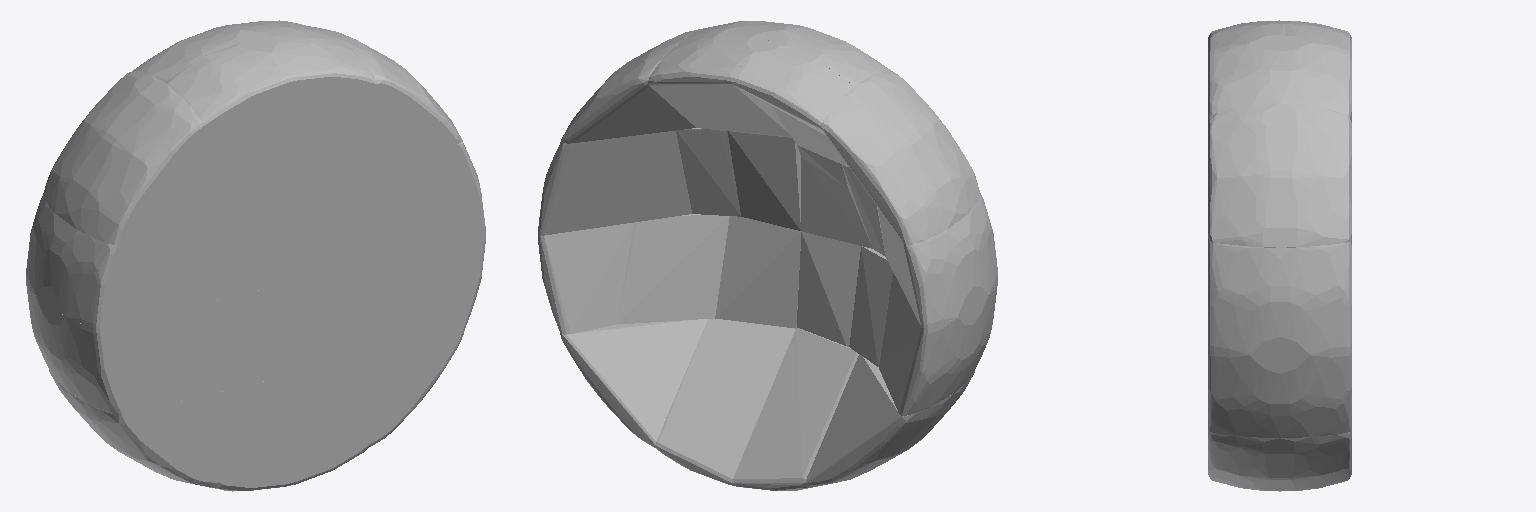
robot.urdf — root:
<robot name="root">
  <link name="link_coacd_convex_piece_0">
    <inertial>
      <origin xyz="0 0 0" rpy="0 0 0"/>
      <inertia ixx="1.79E-02" ixy="6.59E-04" ixz="-1.55E-02" iyy="3.27E-02" iyz="7.07E-04" izz="1.62E-02"/>
    </inertial>
    <visual>
      <origin xyz="0 0 0" rpy="0 0 0"/>
      <geometry>
        <mesh filename="coacd_convex_piece_0.obj" scale="1.0000E+00 1.0000E+00 1.0000E+00"/>
      </geometry>
      <material name="">
        <color rgba="7.50E-01 7.50E-01 7.50E-01 1"/>
      </material>
    </visual>
    <collision>
      <origin xyz="0 0 0" rpy="0 0 0"/>
      <geometry>
        <mesh filename="coacd_convex_piece_0.obj" scale="1.0000E+00 1.0000E+00 1.0000E+00"/>
      </geometry>
    </collision>
  </link>
  <link name="link_coacd_convex_piece_1">
    <inertial>
      <origin xyz="0 0 0" rpy="0 0 0"/>
      <inertia ixx="3.28E-02" ixy="7.61E-04" ixz="-8.20E-03" iyy="3.47E-02" iyz="2.42E-03" izz="4.03E-03"/>
    </inertial>
    <visual>
      <origin xyz="0 0 0" rpy="0 0 0"/>
      <geometry>
        <mesh filename="coacd_convex_piece_1.obj" scale="1.0000E+00 1.0000E+00 1.0000E+00"/>
      </geometry>
      <material name="">
        <color rgba="7.50E-01 7.50E-01 7.50E-01 1"/>
      </material>
    </visual>
    <collision>
      <origin xyz="0 0 0" rpy="0 0 0"/>
      <geometry>
        <mesh filename="coacd_convex_piece_1.obj" scale="1.0000E+00 1.0000E+00 1.0000E+00"/>
      </geometry>
    </collision>
  </link>
  <joint name="link_coacd_convex_piece_1_joint" type="fixed">
    <origin xyz="0 0 0" rpy="0 0 0"/>
    <parent link="link_coacd_convex_piece_0"/>
    <child link="link_coacd_convex_piece_1"/>
  </joint>
  <link name="link_coacd_convex_piece_2">
    <inertial>
      <origin xyz="0 0 0" rpy="0 0 0"/>
      <inertia ixx="4.96E-03" ixy="2.45E-03" ixz="-9.68E-03" iyy="3.82E-02" iyz="8.18E-04" izz="3.54E-02"/>
    </inertial>
    <visual>
      <origin xyz="0 0 0" rpy="0 0 0"/>
      <geometry>
        <mesh filename="coacd_convex_piece_2.obj" scale="1.0000E+00 1.0000E+00 1.0000E+00"/>
      </geometry>
      <material name="">
        <color rgba="7.50E-01 7.50E-01 7.50E-01 1"/>
      </material>
    </visual>
    <collision>
      <origin xyz="0 0 0" rpy="0 0 0"/>
      <geometry>
        <mesh filename="coacd_convex_piece_2.obj" scale="1.0000E+00 1.0000E+00 1.0000E+00"/>
      </geometry>
    </collision>
  </link>
  <joint name="link_coacd_convex_piece_2_joint" type="fixed">
    <origin xyz="0 0 0" rpy="0 0 0"/>
    <parent link="link_coacd_convex_piece_1"/>
    <child link="link_coacd_convex_piece_2"/>
  </joint>
  <link name="link_coacd_convex_piece_3">
    <inertial>
      <origin xyz="0 0 0" rpy="0 0 0"/>
      <inertia ixx="1.87E-02" ixy="-9.10E-04" ixz="1.80E-02" iyy="3.85E-02" iyz="8.29E-04" izz="2.16E-02"/>
    </inertial>
    <visual>
      <origin xyz="0 0 0" rpy="0 0 0"/>
      <geometry>
        <mesh filename="coacd_convex_piece_3.obj" scale="1.0000E+00 1.0000E+00 1.0000E+00"/>
      </geometry>
      <material name="">
        <color rgba="7.50E-01 7.50E-01 7.50E-01 1"/>
      </material>
    </visual>
    <collision>
      <origin xyz="0 0 0" rpy="0 0 0"/>
      <geometry>
        <mesh filename="coacd_convex_piece_3.obj" scale="1.0000E+00 1.0000E+00 1.0000E+00"/>
      </geometry>
    </collision>
  </link>
  <joint name="link_coacd_convex_piece_3_joint" type="fixed">
    <origin xyz="0 0 0" rpy="0 0 0"/>
    <parent link="link_coacd_convex_piece_2"/>
    <child link="link_coacd_convex_piece_3"/>
  </joint>
  <link name="link_coacd_convex_piece_4">
    <inertial>
      <origin xyz="0 0 0" rpy="0 0 0"/>
      <inertia ixx="3.27E-03" ixy="-2.30E-03" ixz="6.91E-03" iyy="3.18E-02" iyz="6.64E-04" izz="3.05E-02"/>
    </inertial>
    <visual>
      <origin xyz="0 0 0" rpy="0 0 0"/>
      <geometry>
        <mesh filename="coacd_convex_piece_4.obj" scale="1.0000E+00 1.0000E+00 1.0000E+00"/>
      </geometry>
      <material name="">
        <color rgba="7.50E-01 7.50E-01 7.50E-01 1"/>
      </material>
    </visual>
    <collision>
      <origin xyz="0 0 0" rpy="0 0 0"/>
      <geometry>
        <mesh filename="coacd_convex_piece_4.obj" scale="1.0000E+00 1.0000E+00 1.0000E+00"/>
      </geometry>
    </collision>
  </link>
  <joint name="link_coacd_convex_piece_4_joint" type="fixed">
    <origin xyz="0 0 0" rpy="0 0 0"/>
    <parent link="link_coacd_convex_piece_3"/>
    <child link="link_coacd_convex_piece_4"/>
  </joint>
  <link name="link_coacd_convex_piece_5">
    <inertial>
      <origin xyz="0 0 0" rpy="0 0 0"/>
      <inertia ixx="9.83E-04" ixy="3.40E-04" ixz="3.47E-04" iyy="8.74E-04" iyz="-4.62E-04" izz="7.39E-04"/>
    </inertial>
    <visual>
      <origin xyz="0 0 0" rpy="0 0 0"/>
      <geometry>
        <mesh filename="coacd_convex_piece_5.obj" scale="1.0000E+00 1.0000E+00 1.0000E+00"/>
      </geometry>
      <material name="">
        <color rgba="7.50E-01 7.50E-01 7.50E-01 1"/>
      </material>
    </visual>
    <collision>
      <origin xyz="0 0 0" rpy="0 0 0"/>
      <geometry>
        <mesh filename="coacd_convex_piece_5.obj" scale="1.0000E+00 1.0000E+00 1.0000E+00"/>
      </geometry>
    </collision>
  </link>
  <joint name="link_coacd_convex_piece_5_joint" type="fixed">
    <origin xyz="0 0 0" rpy="0 0 0"/>
    <parent link="link_coacd_convex_piece_4"/>
    <child link="link_coacd_convex_piece_5"/>
  </joint>
  <link name="link_coacd_convex_piece_6">
    <inertial>
      <origin xyz="0 0 0" rpy="0 0 0"/>
      <inertia ixx="2.15E-02" ixy="8.26E-04" ixz="1.79E-02" iyy="3.84E-02" iyz="-9.07E-04" izz="1.87E-02"/>
    </inertial>
    <visual>
      <origin xyz="0 0 0" rpy="0 0 0"/>
      <geometry>
        <mesh filename="coacd_convex_piece_6.obj" scale="1.0000E+00 1.0000E+00 1.0000E+00"/>
      </geometry>
      <material name="">
        <color rgba="7.50E-01 7.50E-01 7.50E-01 1"/>
      </material>
    </visual>
    <collision>
      <origin xyz="0 0 0" rpy="0 0 0"/>
      <geometry>
        <mesh filename="coacd_convex_piece_6.obj" scale="1.0000E+00 1.0000E+00 1.0000E+00"/>
      </geometry>
    </collision>
  </link>
  <joint name="link_coacd_convex_piece_6_joint" type="fixed">
    <origin xyz="0 0 0" rpy="0 0 0"/>
    <parent link="link_coacd_convex_piece_5"/>
    <child link="link_coacd_convex_piece_6"/>
  </joint>
  <link name="link_coacd_convex_piece_7">
    <inertial>
      <origin xyz="0 0 0" rpy="0 0 0"/>
      <inertia ixx="3.06E-02" ixy="6.66E-04" ixz="6.94E-03" iyy="3.19E-02" iyz="-2.31E-03" izz="3.29E-03"/>
    </inertial>
    <visual>
      <origin xyz="0 0 0" rpy="0 0 0"/>
      <geometry>
        <mesh filename="coacd_convex_piece_7.obj" scale="1.0000E+00 1.0000E+00 1.0000E+00"/>
      </geometry>
      <material name="">
        <color rgba="7.50E-01 7.50E-01 7.50E-01 1"/>
      </material>
    </visual>
    <collision>
      <origin xyz="0 0 0" rpy="0 0 0"/>
      <geometry>
        <mesh filename="coacd_convex_piece_7.obj" scale="1.0000E+00 1.0000E+00 1.0000E+00"/>
      </geometry>
    </collision>
  </link>
  <joint name="link_coacd_convex_piece_7_joint" type="fixed">
    <origin xyz="0 0 0" rpy="0 0 0"/>
    <parent link="link_coacd_convex_piece_6"/>
    <child link="link_coacd_convex_piece_7"/>
  </joint>
  <link name="link_coacd_convex_piece_8">
    <inertial>
      <origin xyz="0 0 0" rpy="0 0 0"/>
      <inertia ixx="4.17E-03" ixy="-2.29E-03" ixz="-8.51E-03" iyy="3.54E-02" iyz="-7.10E-04" izz="3.33E-02"/>
    </inertial>
    <visual>
      <origin xyz="0 0 0" rpy="0 0 0"/>
      <geometry>
        <mesh filename="coacd_convex_piece_8.obj" scale="1.0000E+00 1.0000E+00 1.0000E+00"/>
      </geometry>
      <material name="">
        <color rgba="7.50E-01 7.50E-01 7.50E-01 1"/>
      </material>
    </visual>
    <collision>
      <origin xyz="0 0 0" rpy="0 0 0"/>
      <geometry>
        <mesh filename="coacd_convex_piece_8.obj" scale="1.0000E+00 1.0000E+00 1.0000E+00"/>
      </geometry>
    </collision>
  </link>
  <joint name="link_coacd_convex_piece_8_joint" type="fixed">
    <origin xyz="0 0 0" rpy="0 0 0"/>
    <parent link="link_coacd_convex_piece_7"/>
    <child link="link_coacd_convex_piece_8"/>
  </joint>
  <link name="link_coacd_convex_piece_9">
    <inertial>
      <origin xyz="0 0 0" rpy="0 0 0"/>
      <inertia ixx="2.94E-02" ixy="-6.18E-04" ixz="-6.37E-03" iyy="3.05E-02" iyz="-2.24E-03" izz="2.97E-03"/>
    </inertial>
    <visual>
      <origin xyz="0 0 0" rpy="0 0 0"/>
      <geometry>
        <mesh filename="coacd_convex_piece_9.obj" scale="1.0000E+00 1.0000E+00 1.0000E+00"/>
      </geometry>
      <material name="">
        <color rgba="7.50E-01 7.50E-01 7.50E-01 1"/>
      </material>
    </visual>
    <collision>
      <origin xyz="0 0 0" rpy="0 0 0"/>
      <geometry>
        <mesh filename="coacd_convex_piece_9.obj" scale="1.0000E+00 1.0000E+00 1.0000E+00"/>
      </geometry>
    </collision>
  </link>
  <joint name="link_coacd_convex_piece_9_joint" type="fixed">
    <origin xyz="0 0 0" rpy="0 0 0"/>
    <parent link="link_coacd_convex_piece_8"/>
    <child link="link_coacd_convex_piece_9"/>
  </joint>
  <link name="link_coacd_convex_piece_10">
    <inertial>
      <origin xyz="0 0 0" rpy="0 0 0"/>
      <inertia ixx="2.30E-02" ixy="-9.06E-04" ixz="-1.89E-02" iyy="4.07E-02" iyz="-1.02E-03" izz="1.95E-02"/>
    </inertial>
    <visual>
      <origin xyz="0 0 0" rpy="0 0 0"/>
      <geometry>
        <mesh filename="coacd_convex_piece_10.obj" scale="1.0000E+00 1.0000E+00 1.0000E+00"/>
      </geometry>
      <material name="">
        <color rgba="7.50E-01 7.50E-01 7.50E-01 1"/>
      </material>
    </visual>
    <collision>
      <origin xyz="0 0 0" rpy="0 0 0"/>
      <geometry>
        <mesh filename="coacd_convex_piece_10.obj" scale="1.0000E+00 1.0000E+00 1.0000E+00"/>
      </geometry>
    </collision>
  </link>
  <joint name="link_coacd_convex_piece_10_joint" type="fixed">
    <origin xyz="0 0 0" rpy="0 0 0"/>
    <parent link="link_coacd_convex_piece_9"/>
    <child link="link_coacd_convex_piece_10"/>
  </joint>
  <link name="link_coacd_convex_piece_11">
    <inertial>
      <origin xyz="0 0 0" rpy="0 0 0"/>
      <inertia ixx="9.69E-04" ixy="6.65E-04" ixz="-7.69E-04" iyy="1.81E-03" iyz="4.29E-04" izz="1.52E-03"/>
    </inertial>
    <visual>
      <origin xyz="0 0 0" rpy="0 0 0"/>
      <geometry>
        <mesh filename="coacd_convex_piece_11.obj" scale="1.0000E+00 1.0000E+00 1.0000E+00"/>
      </geometry>
      <material name="">
        <color rgba="7.50E-01 7.50E-01 7.50E-01 1"/>
      </material>
    </visual>
    <collision>
      <origin xyz="0 0 0" rpy="0 0 0"/>
      <geometry>
        <mesh filename="coacd_convex_piece_11.obj" scale="1.0000E+00 1.0000E+00 1.0000E+00"/>
      </geometry>
    </collision>
  </link>
  <joint name="link_coacd_convex_piece_11_joint" type="fixed">
    <origin xyz="0 0 0" rpy="0 0 0"/>
    <parent link="link_coacd_convex_piece_10"/>
    <child link="link_coacd_convex_piece_11"/>
  </joint>
  <link name="link_coacd_convex_piece_12">
    <inertial>
      <origin xyz="0 0 0" rpy="0 0 0"/>
      <inertia ixx="9.07E-04" ixy="2.47E-04" ixz="-2.64E-04" iyy="7.28E-04" iyz="4.24E-04" izz="5.61E-04"/>
    </inertial>
    <visual>
      <origin xyz="0 0 0" rpy="0 0 0"/>
      <geometry>
        <mesh filename="coacd_convex_piece_12.obj" scale="1.0000E+00 1.0000E+00 1.0000E+00"/>
      </geometry>
      <material name="">
        <color rgba="7.50E-01 7.50E-01 7.50E-01 1"/>
      </material>
    </visual>
    <collision>
      <origin xyz="0 0 0" rpy="0 0 0"/>
      <geometry>
        <mesh filename="coacd_convex_piece_12.obj" scale="1.0000E+00 1.0000E+00 1.0000E+00"/>
      </geometry>
    </collision>
  </link>
  <joint name="link_coacd_convex_piece_12_joint" type="fixed">
    <origin xyz="0 0 0" rpy="0 0 0"/>
    <parent link="link_coacd_convex_piece_11"/>
    <child link="link_coacd_convex_piece_12"/>
  </joint>
  <link name="link_coacd_convex_piece_13">
    <inertial>
      <origin xyz="0 0 0" rpy="0 0 0"/>
      <inertia ixx="1.07E-02" ixy="4.11E-04" ixz="2.66E-03" iyy="1.14E-02" iyz="-1.60E-03" izz="1.13E-03"/>
    </inertial>
    <visual>
      <origin xyz="0 0 0" rpy="0 0 0"/>
      <geometry>
        <mesh filename="coacd_convex_piece_13.obj" scale="1.0000E+00 1.0000E+00 1.0000E+00"/>
      </geometry>
      <material name="">
        <color rgba="7.50E-01 7.50E-01 7.50E-01 1"/>
      </material>
    </visual>
    <collision>
      <origin xyz="0 0 0" rpy="0 0 0"/>
      <geometry>
        <mesh filename="coacd_convex_piece_13.obj" scale="1.0000E+00 1.0000E+00 1.0000E+00"/>
      </geometry>
    </collision>
  </link>
  <joint name="link_coacd_convex_piece_13_joint" type="fixed">
    <origin xyz="0 0 0" rpy="0 0 0"/>
    <parent link="link_coacd_convex_piece_12"/>
    <child link="link_coacd_convex_piece_13"/>
  </joint>
  <link name="link_coacd_convex_piece_14">
    <inertial>
      <origin xyz="0 0 0" rpy="0 0 0"/>
      <inertia ixx="2.30E-02" ixy="-1.35E-03" ixz="6.22E-03" iyy="2.45E-02" iyz="4.40E-03" izz="3.52E-03"/>
    </inertial>
    <visual>
      <origin xyz="0 0 0" rpy="0 0 0"/>
      <geometry>
        <mesh filename="coacd_convex_piece_14.obj" scale="1.0000E+00 1.0000E+00 1.0000E+00"/>
      </geometry>
      <material name="">
        <color rgba="7.50E-01 7.50E-01 7.50E-01 1"/>
      </material>
    </visual>
    <collision>
      <origin xyz="0 0 0" rpy="0 0 0"/>
      <geometry>
        <mesh filename="coacd_convex_piece_14.obj" scale="1.0000E+00 1.0000E+00 1.0000E+00"/>
      </geometry>
    </collision>
  </link>
  <joint name="link_coacd_convex_piece_14_joint" type="fixed">
    <origin xyz="0 0 0" rpy="0 0 0"/>
    <parent link="link_coacd_convex_piece_13"/>
    <child link="link_coacd_convex_piece_14"/>
  </joint>
  <link name="link_coacd_convex_piece_15">
    <inertial>
      <origin xyz="0 0 0" rpy="0 0 0"/>
      <inertia ixx="3.43E-04" ixy="-1.61E-04" ixz="1.14E-04" iyy="3.05E-04" iyz="1.54E-04" izz="3.55E-04"/>
    </inertial>
    <visual>
      <origin xyz="0 0 0" rpy="0 0 0"/>
      <geometry>
        <mesh filename="coacd_convex_piece_15.obj" scale="1.0000E+00 1.0000E+00 1.0000E+00"/>
      </geometry>
      <material name="">
        <color rgba="7.50E-01 7.50E-01 7.50E-01 1"/>
      </material>
    </visual>
    <collision>
      <origin xyz="0 0 0" rpy="0 0 0"/>
      <geometry>
        <mesh filename="coacd_convex_piece_15.obj" scale="1.0000E+00 1.0000E+00 1.0000E+00"/>
      </geometry>
    </collision>
  </link>
  <joint name="link_coacd_convex_piece_15_joint" type="fixed">
    <origin xyz="0 0 0" rpy="0 0 0"/>
    <parent link="link_coacd_convex_piece_14"/>
    <child link="link_coacd_convex_piece_15"/>
  </joint>
  <link name="link_coacd_convex_piece_16">
    <inertial>
      <origin xyz="0 0 0" rpy="0 0 0"/>
      <inertia ixx="2.94E-03" ixy="1.18E-03" ixz="6.64E-03" iyy="2.93E-02" iyz="-2.90E-04" izz="2.76E-02"/>
    </inertial>
    <visual>
      <origin xyz="0 0 0" rpy="0 0 0"/>
      <geometry>
        <mesh filename="coacd_convex_piece_16.obj" scale="1.0000E+00 1.0000E+00 1.0000E+00"/>
      </geometry>
      <material name="">
        <color rgba="7.50E-01 7.50E-01 7.50E-01 1"/>
      </material>
    </visual>
    <collision>
      <origin xyz="0 0 0" rpy="0 0 0"/>
      <geometry>
        <mesh filename="coacd_convex_piece_16.obj" scale="1.0000E+00 1.0000E+00 1.0000E+00"/>
      </geometry>
    </collision>
  </link>
  <joint name="link_coacd_convex_piece_16_joint" type="fixed">
    <origin xyz="0 0 0" rpy="0 0 0"/>
    <parent link="link_coacd_convex_piece_15"/>
    <child link="link_coacd_convex_piece_16"/>
  </joint>
  <link name="link_coacd_convex_piece_17">
    <inertial>
      <origin xyz="0 0 0" rpy="0 0 0"/>
      <inertia ixx="2.04E-03" ixy="1.87E-03" ixz="2.53E-03" iyy="7.31E-03" iyz="-8.11E-04" izz="6.50E-03"/>
    </inertial>
    <visual>
      <origin xyz="0 0 0" rpy="0 0 0"/>
      <geometry>
        <mesh filename="coacd_convex_piece_17.obj" scale="1.0000E+00 1.0000E+00 1.0000E+00"/>
      </geometry>
      <material name="">
        <color rgba="7.50E-01 7.50E-01 7.50E-01 1"/>
      </material>
    </visual>
    <collision>
      <origin xyz="0 0 0" rpy="0 0 0"/>
      <geometry>
        <mesh filename="coacd_convex_piece_17.obj" scale="1.0000E+00 1.0000E+00 1.0000E+00"/>
      </geometry>
    </collision>
  </link>
  <joint name="link_coacd_convex_piece_17_joint" type="fixed">
    <origin xyz="0 0 0" rpy="0 0 0"/>
    <parent link="link_coacd_convex_piece_16"/>
    <child link="link_coacd_convex_piece_17"/>
  </joint>
  <link name="link_coacd_convex_piece_18">
    <inertial>
      <origin xyz="0 0 0" rpy="0 0 0"/>
      <inertia ixx="7.14E-04" ixy="-2.08E-04" ixz="-2.03E-04" iyy="5.49E-04" iyz="-3.37E-04" izz="4.78E-04"/>
    </inertial>
    <visual>
      <origin xyz="0 0 0" rpy="0 0 0"/>
      <geometry>
        <mesh filename="coacd_convex_piece_18.obj" scale="1.0000E+00 1.0000E+00 1.0000E+00"/>
      </geometry>
      <material name="">
        <color rgba="7.50E-01 7.50E-01 7.50E-01 1"/>
      </material>
    </visual>
    <collision>
      <origin xyz="0 0 0" rpy="0 0 0"/>
      <geometry>
        <mesh filename="coacd_convex_piece_18.obj" scale="1.0000E+00 1.0000E+00 1.0000E+00"/>
      </geometry>
    </collision>
  </link>
  <joint name="link_coacd_convex_piece_18_joint" type="fixed">
    <origin xyz="0 0 0" rpy="0 0 0"/>
    <parent link="link_coacd_convex_piece_17"/>
    <child link="link_coacd_convex_piece_18"/>
  </joint>
  <link name="link_coacd_convex_piece_19">
    <inertial>
      <origin xyz="0 0 0" rpy="0 0 0"/>
      <inertia ixx="9.05E-04" ixy="-6.95E-04" ixz="-7.40E-04" iyy="1.81E-03" iyz="-4.09E-04" izz="1.61E-03"/>
    </inertial>
    <visual>
      <origin xyz="0 0 0" rpy="0 0 0"/>
      <geometry>
        <mesh filename="coacd_convex_piece_19.obj" scale="1.0000E+00 1.0000E+00 1.0000E+00"/>
      </geometry>
      <material name="">
        <color rgba="7.50E-01 7.50E-01 7.50E-01 1"/>
      </material>
    </visual>
    <collision>
      <origin xyz="0 0 0" rpy="0 0 0"/>
      <geometry>
        <mesh filename="coacd_convex_piece_19.obj" scale="1.0000E+00 1.0000E+00 1.0000E+00"/>
      </geometry>
    </collision>
  </link>
  <joint name="link_coacd_convex_piece_19_joint" type="fixed">
    <origin xyz="0 0 0" rpy="0 0 0"/>
    <parent link="link_coacd_convex_piece_18"/>
    <child link="link_coacd_convex_piece_19"/>
  </joint>
  <link name="link_coacd_convex_piece_20">
    <inertial>
      <origin xyz="0 0 0" rpy="0 0 0"/>
      <inertia ixx="9.68E-05" ixy="-1.79E-05" ixz="2.51E-05" iyy="7.87E-05" iyz="4.72E-05" izz="4.11E-05"/>
    </inertial>
    <visual>
      <origin xyz="0 0 0" rpy="0 0 0"/>
      <geometry>
        <mesh filename="coacd_convex_piece_20.obj" scale="1.0000E+00 1.0000E+00 1.0000E+00"/>
      </geometry>
      <material name="">
        <color rgba="7.50E-01 7.50E-01 7.50E-01 1"/>
      </material>
    </visual>
    <collision>
      <origin xyz="0 0 0" rpy="0 0 0"/>
      <geometry>
        <mesh filename="coacd_convex_piece_20.obj" scale="1.0000E+00 1.0000E+00 1.0000E+00"/>
      </geometry>
    </collision>
  </link>
  <joint name="link_coacd_convex_piece_20_joint" type="fixed">
    <origin xyz="0 0 0" rpy="0 0 0"/>
    <parent link="link_coacd_convex_piece_19"/>
    <child link="link_coacd_convex_piece_20"/>
  </joint>
  <link name="link_coacd_convex_piece_21">
    <inertial>
      <origin xyz="0 0 0" rpy="0 0 0"/>
      <inertia ixx="4.15E-04" ixy="-2.60E-04" ixz="2.97E-04" iyy="6.63E-04" iyz="1.97E-04" izz="5.51E-04"/>
    </inertial>
    <visual>
      <origin xyz="0 0 0" rpy="0 0 0"/>
      <geometry>
        <mesh filename="coacd_convex_piece_21.obj" scale="1.0000E+00 1.0000E+00 1.0000E+00"/>
      </geometry>
      <material name="">
        <color rgba="7.50E-01 7.50E-01 7.50E-01 1"/>
      </material>
    </visual>
    <collision>
      <origin xyz="0 0 0" rpy="0 0 0"/>
      <geometry>
        <mesh filename="coacd_convex_piece_21.obj" scale="1.0000E+00 1.0000E+00 1.0000E+00"/>
      </geometry>
    </collision>
  </link>
  <joint name="link_coacd_convex_piece_21_joint" type="fixed">
    <origin xyz="0 0 0" rpy="0 0 0"/>
    <parent link="link_coacd_convex_piece_20"/>
    <child link="link_coacd_convex_piece_21"/>
  </joint>
</robot>

--- Render facts (derived) ---
The picture shows the robot from 3 angles, left to right: view 1: azimuth 30°, elevation 25°; view 2: azimuth 150°, elevation 25°; view 3: azimuth 270°, elevation 25°; orthographic projection.
Robot: root — 22 links, 21 joints (21 fixed); root link link_coacd_convex_piece_0; default pose: every joint at zero.
Links seen in each view (by area): view 1: link_coacd_convex_piece_3, link_coacd_convex_piece_4, link_coacd_convex_piece_14, link_coacd_convex_piece_8, link_coacd_convex_piece_1, link_coacd_convex_piece_2, link_coacd_convex_piece_10, link_coacd_convex_piece_7, link_coacd_convex_piece_15, link_coacd_convex_piece_9, link_coacd_convex_piece_5, link_coacd_convex_piece_0 (+8 smaller); view 2: link_coacd_convex_piece_3, link_coacd_convex_piece_7, link_coacd_convex_piece_2, link_coacd_convex_piece_9, link_coacd_convex_piece_6, link_coacd_convex_piece_17, link_coacd_convex_piece_1, link_coacd_convex_piece_8, link_coacd_convex_piece_4, link_coacd_convex_piece_10, link_coacd_convex_piece_16, link_coacd_convex_piece_5 (+10 smaller); view 3: link_coacd_convex_piece_0, link_coacd_convex_piece_2, link_coacd_convex_piece_16, link_coacd_convex_piece_1, link_coacd_convex_piece_6, link_coacd_convex_piece_14, link_coacd_convex_piece_13.
Boxes of the visible links, x1,y1,x2,y2 form: link_coacd_convex_piece_3: [43, 71, 202, 244]; link_coacd_convex_piece_4: [26, 196, 202, 328]; link_coacd_convex_piece_14: [166, 40, 291, 214]; link_coacd_convex_piece_8: [26, 280, 188, 415]; link_coacd_convex_piece_1: [225, 20, 376, 184]; link_coacd_convex_piece_2: [392, 141, 485, 257]; link_coacd_convex_piece_10: [49, 370, 218, 487]; link_coacd_convex_piece_7: [292, 357, 368, 484]; link_coacd_convex_piece_15: [203, 193, 291, 303]; link_coacd_convex_piece_9: [215, 375, 291, 491]; link_coacd_convex_piece_5: [292, 265, 362, 375]; link_coacd_convex_piece_0: [315, 27, 462, 163]; link_coacd_convex_piece_3: [821, 71, 980, 244]; link_coacd_convex_piece_7: [655, 319, 795, 485]; link_coacd_convex_piece_2: [538, 131, 691, 235]; link_coacd_convex_piece_9: [732, 328, 858, 490]; link_coacd_convex_piece_6: [560, 319, 707, 447]; link_coacd_convex_piece_17: [617, 214, 729, 323]; link_coacd_convex_piece_1: [648, 21, 799, 137]; link_coacd_convex_piece_8: [879, 273, 997, 415]; link_coacd_convex_piece_4: [878, 193, 997, 328]; link_coacd_convex_piece_10: [805, 354, 974, 487]; link_coacd_convex_piece_16: [538, 223, 633, 334]; link_coacd_convex_piece_5: [715, 216, 800, 328]; link_coacd_convex_piece_0: [1208, 102, 1351, 247]; link_coacd_convex_piece_2: [1208, 239, 1351, 354]; link_coacd_convex_piece_16: [1208, 349, 1351, 437]; link_coacd_convex_piece_1: [1208, 43, 1351, 120]; link_coacd_convex_piece_6: [1208, 431, 1351, 491]; link_coacd_convex_piece_14: [1208, 20, 1284, 56]; link_coacd_convex_piece_13: [1285, 21, 1351, 56].
Size in the robot's own frame: 1.96 by 0.5968 by 1.96 metres.
Meshes: 22 distinct files referenced, 22 mesh visuals loaded (22 OBJ).
